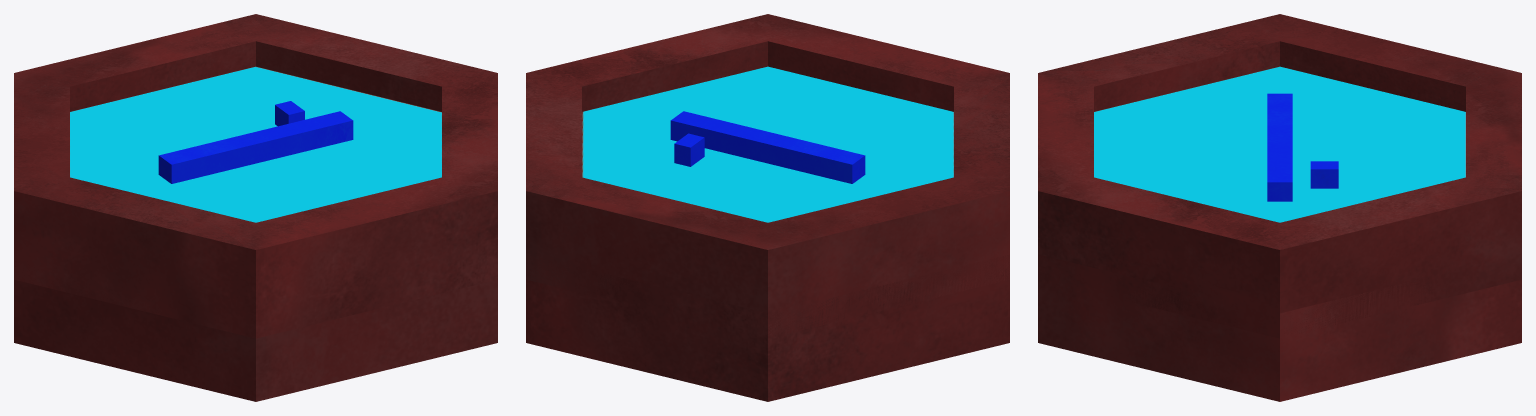
File: Sticky.FBX
3 views of the same model, side by side, from view 1: azimuth 30°, elevation 25°; view 2: azimuth 150°, elevation 25°; view 3: azimuth 270°, elevation 25° (orthographic).
Parts seen in each view (by area): view 1: Cylinder020; view 2: Cylinder020; view 3: Cylinder020.
Part boxes in pixels (x1=…): Cylinder020: x1=14, y1=14, x2=497, y2=401; Cylinder020: x1=526, y1=14, x2=1009, y2=401; Cylinder020: x1=1038, y1=14, x2=1521, y2=401.
Bounding box in the file's own units: 20 × 17.32 × 6.
